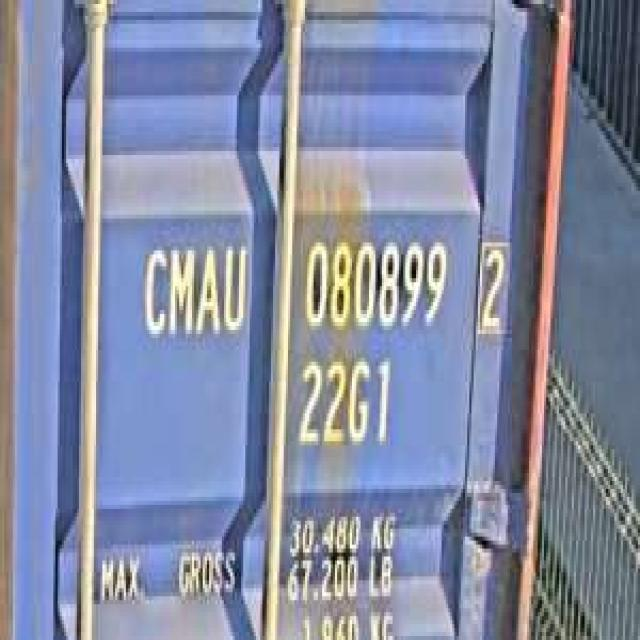dv: (473, 230, 510, 338)
owner: (136, 230, 248, 346)
serial: (299, 230, 450, 338)
size: (294, 346, 395, 453)
